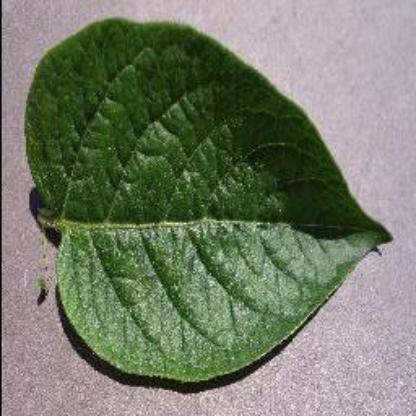Healthy-plant: (23, 7, 384, 385)
